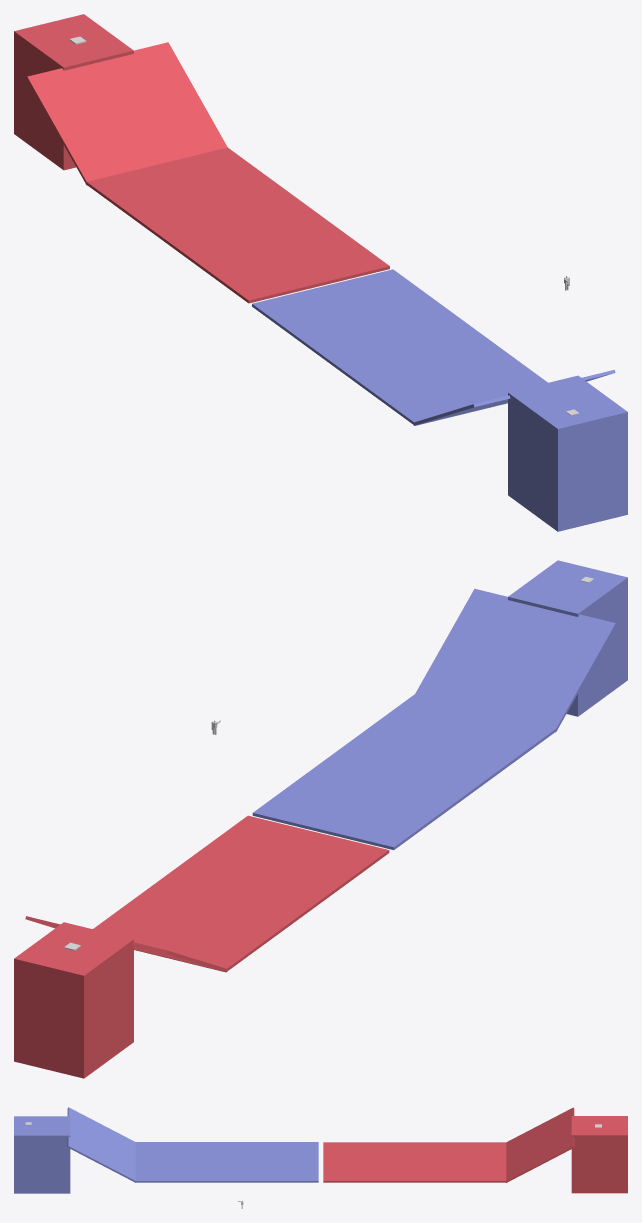
The model's file is LevelTower.fbx.
3 views of the same model, one above another, from view 1: azimuth 30°, elevation 25°; view 2: azimuth 150°, elevation 25°; view 3: azimuth 270°, elevation 25° (orthographic). The views are drawn at different scales.
Visible parts, largest first — view 1: Ground3, Ground2, Ground4, Cube.005, Cube.004, Ground; view 2: Ground2, Ground3, Ground, Cube.004, Cube.005, Ground4; view 3: Ground2, Ground3, Cube.005, Cube.004, Ground4, Ground.
Boxes of the visible parts, x1,y1,x2,y2 form: Ground3: (85,147,389,303); Ground2: (252,269,547,425); Ground4: (26,42,227,185); Cube.005: (508,375,627,531); Cube.004: (14,14,133,170); Ground: (413,370,615,425); Ground2: (252,694,557,849); Ground3: (93,815,389,972); Ground: (415,588,616,732); Cube.004: (14,922,133,1078); Cube.005: (508,560,627,716); Ground4: (25,916,227,971); Ground2: (134,1142,318,1182); Ground3: (323,1142,507,1182); Cube.005: (14,1116,70,1193); Cube.004: (571,1116,627,1193); Ground4: (505,1107,574,1182); Ground: (67,1107,135,1181).
Size of the model in its own units: 17690 by 7037 by 66701.
